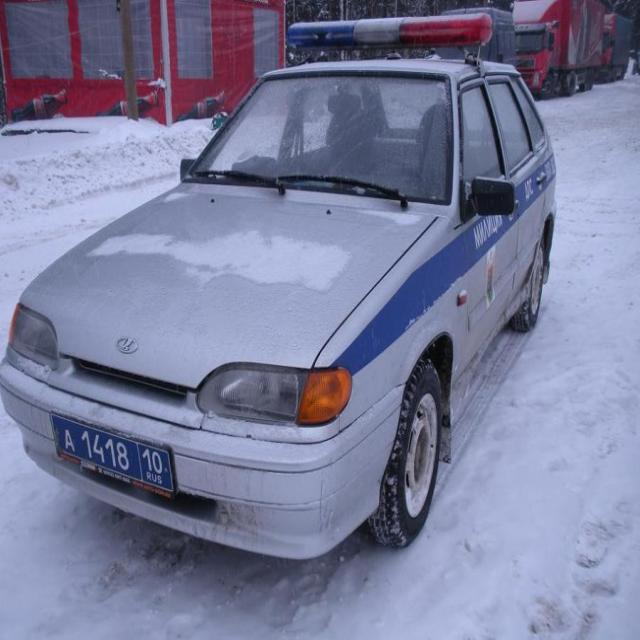number-plates: (49, 412, 176, 505)
